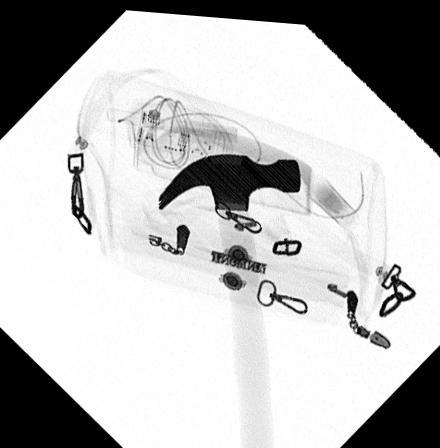Hammer: (156, 148, 302, 448)
